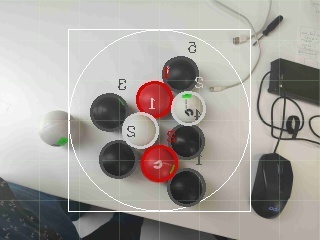Pelota blanca: (121, 111, 161, 148), (171, 91, 207, 126), (38, 109, 71, 147)
Pelota negra: (252, 151, 295, 220), (168, 167, 207, 208), (98, 139, 137, 180), (90, 93, 129, 132), (166, 123, 207, 159), (161, 55, 199, 90)
Pelota roja: (140, 143, 179, 183), (135, 79, 175, 118)
